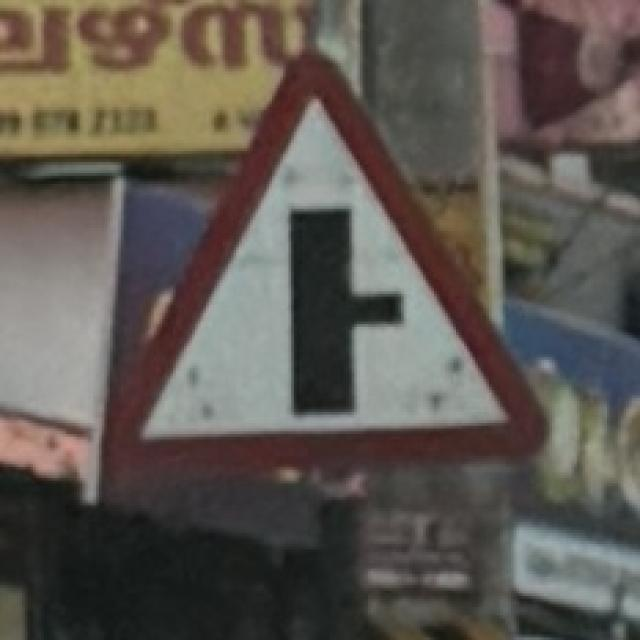SIDE_ROAD_RIGHT: (86, 41, 571, 494)
